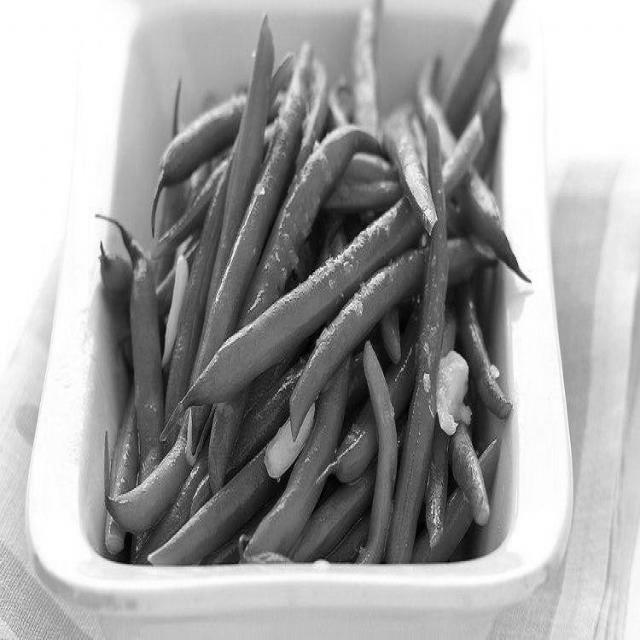Beans: (87, 0, 534, 560)
